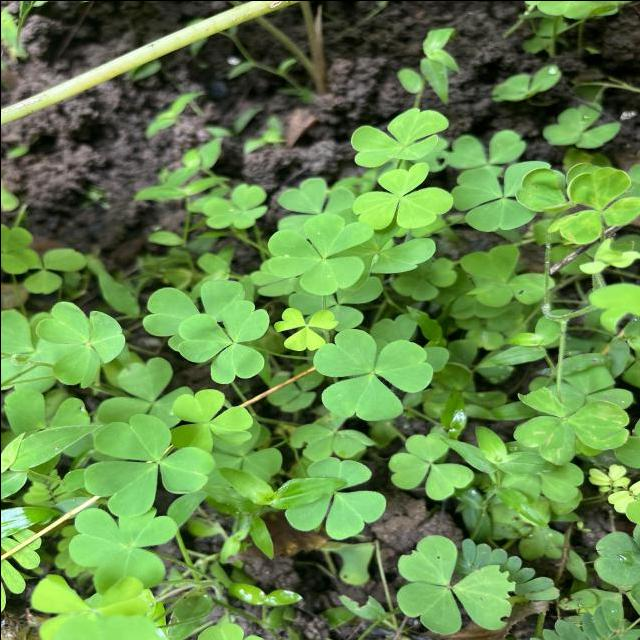Oxalis corniculata: (81, 411, 214, 518), (394, 533, 515, 635), (309, 328, 433, 420), (66, 503, 178, 594), (512, 384, 630, 466), (264, 211, 372, 296), (282, 456, 386, 540), (451, 158, 566, 232), (34, 299, 125, 389), (178, 298, 270, 384), (350, 160, 453, 230), (348, 106, 448, 168), (387, 432, 474, 500), (170, 387, 253, 452), (272, 306, 338, 351)
